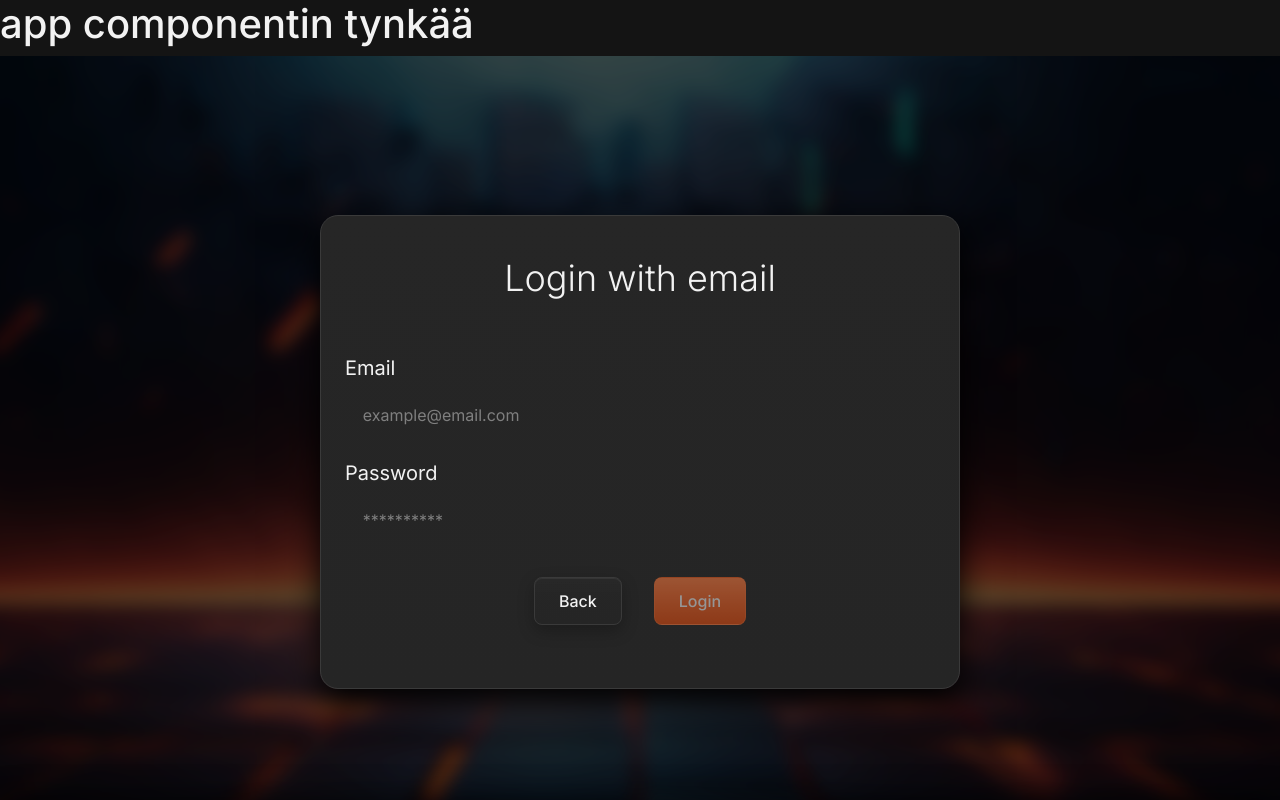
Test: Player Profile › should render profile main structure and sections
The image size is (1280, 800).
Type "demo@mies.fi" into the field named "email".
click(640, 415); type("demo@mies.fi")  # box [345, 391, 935, 439]
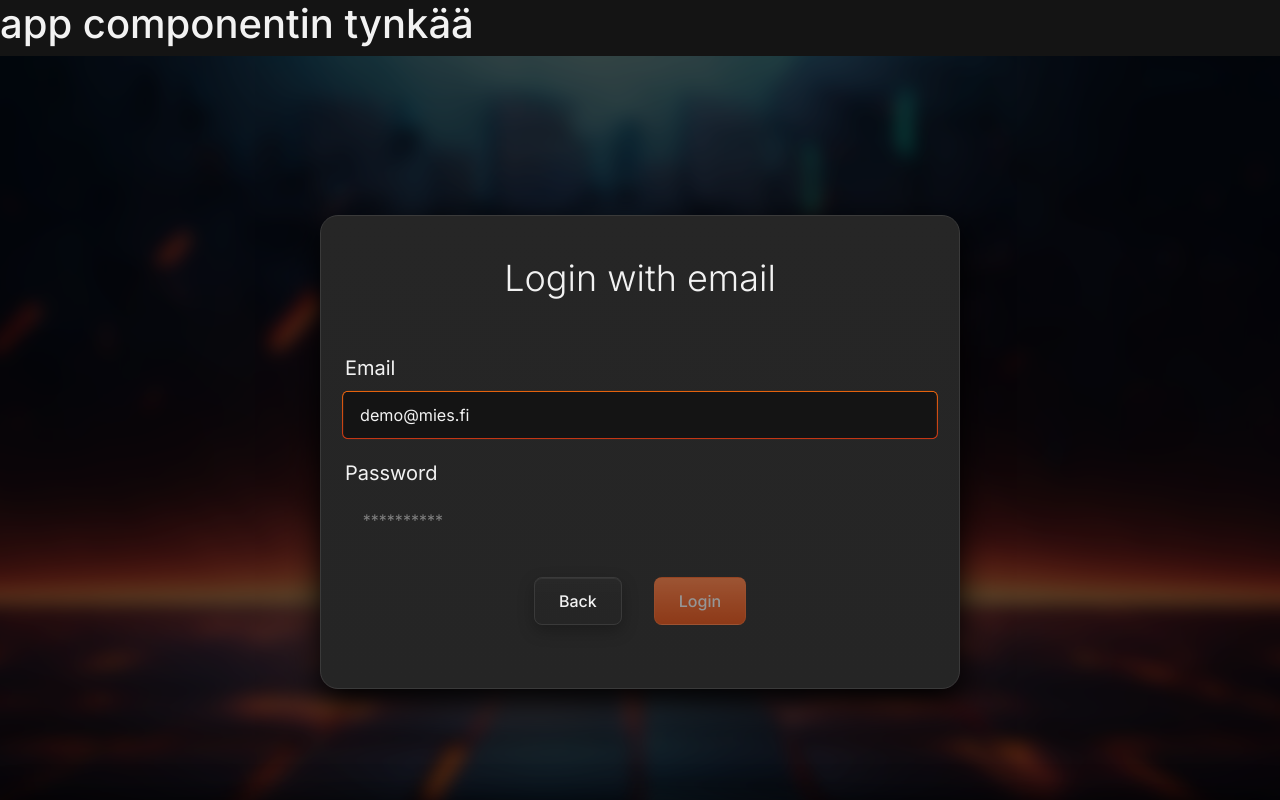
Type "Demo11" into the password field named "password".
click(640, 520); type("Demo11")  # box [345, 496, 935, 544]
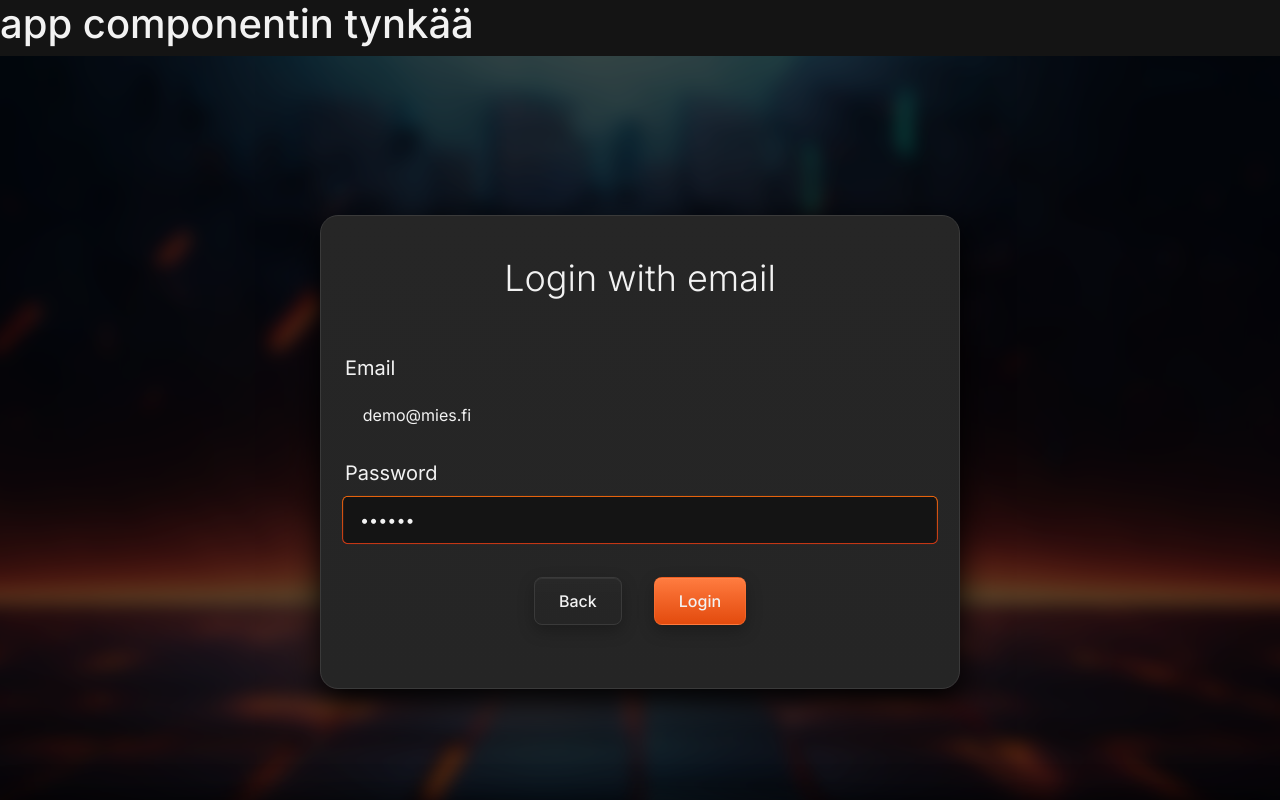
Submit the form, box [345, 334, 935, 625]
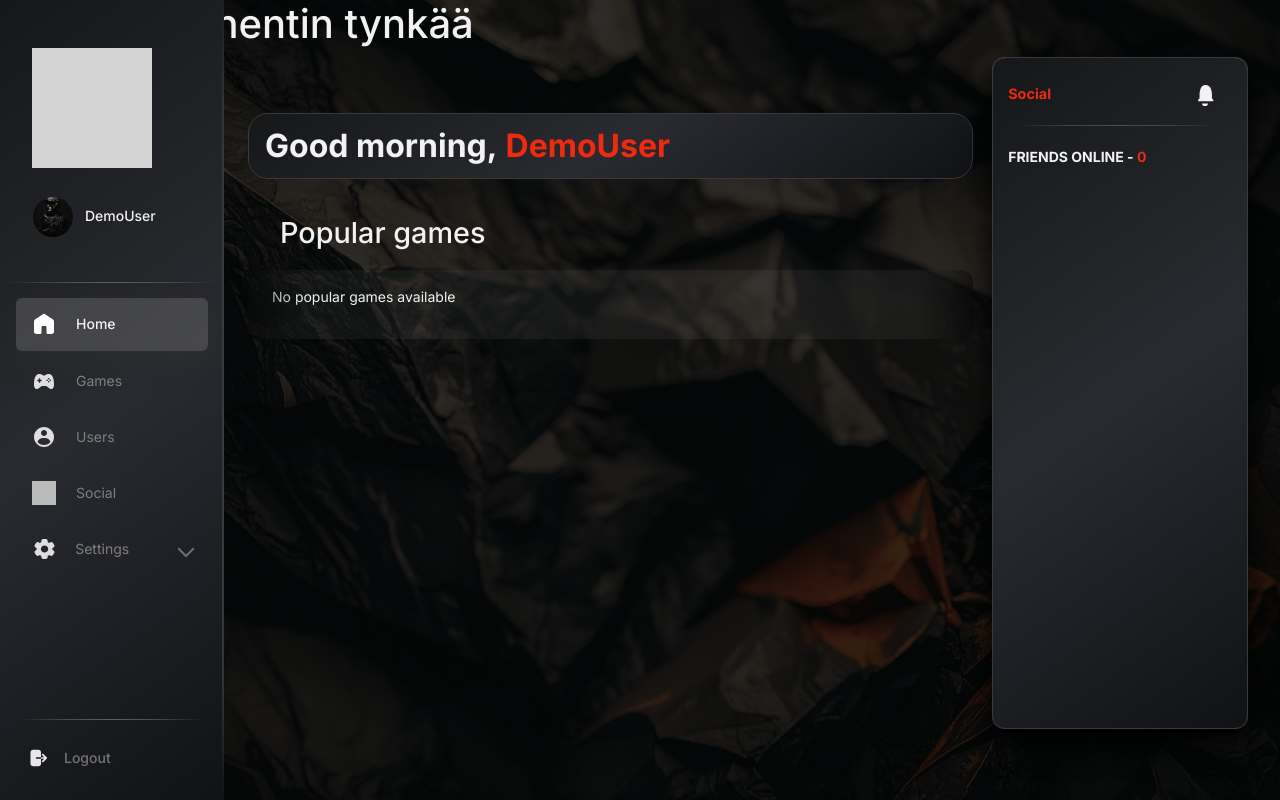
Open "/dashboard/profile/user-2"
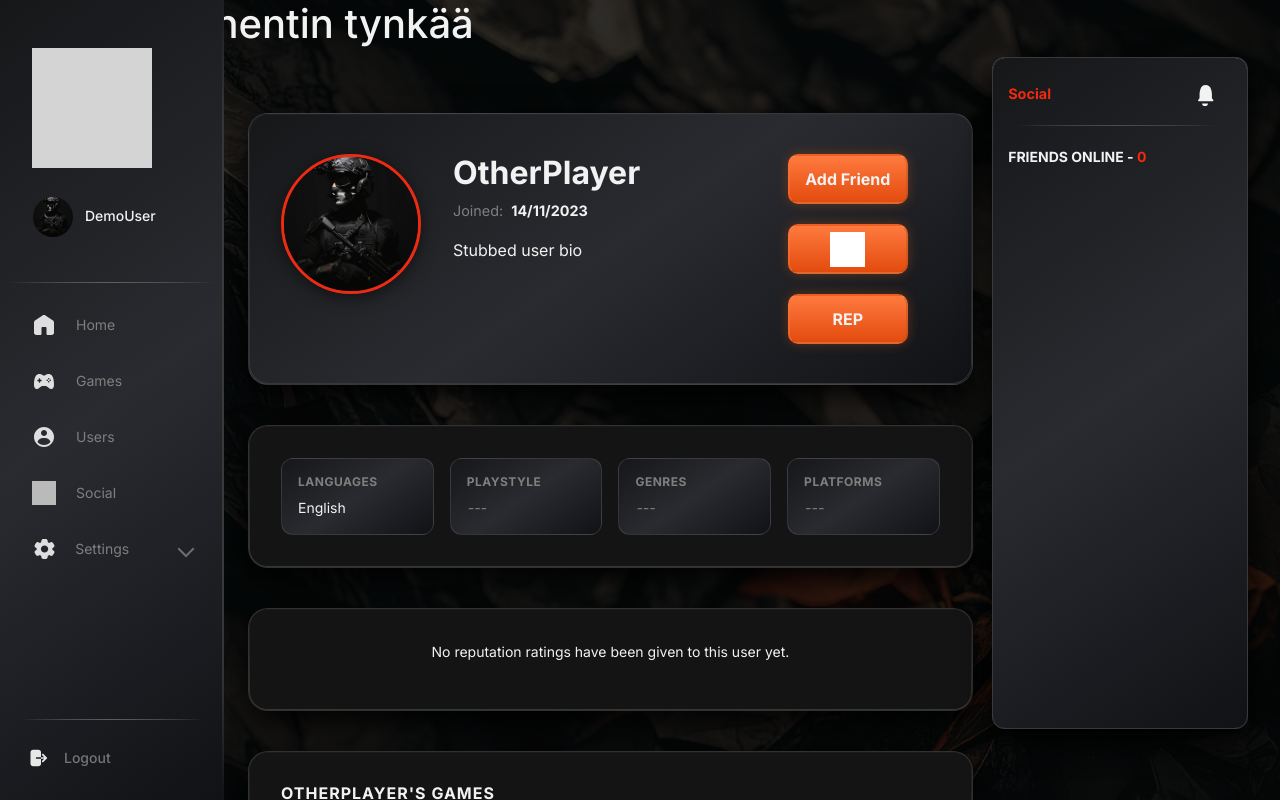
Check: the element that starts with "DemoUser" is shown
Check: the element showing "OtherPlayer Joined: 14/11/2023 Stubbed user bio" is shown, box [453, 153, 640, 260]
Check: the element that starts with "Languages" is shown, box [248, 425, 973, 799]
